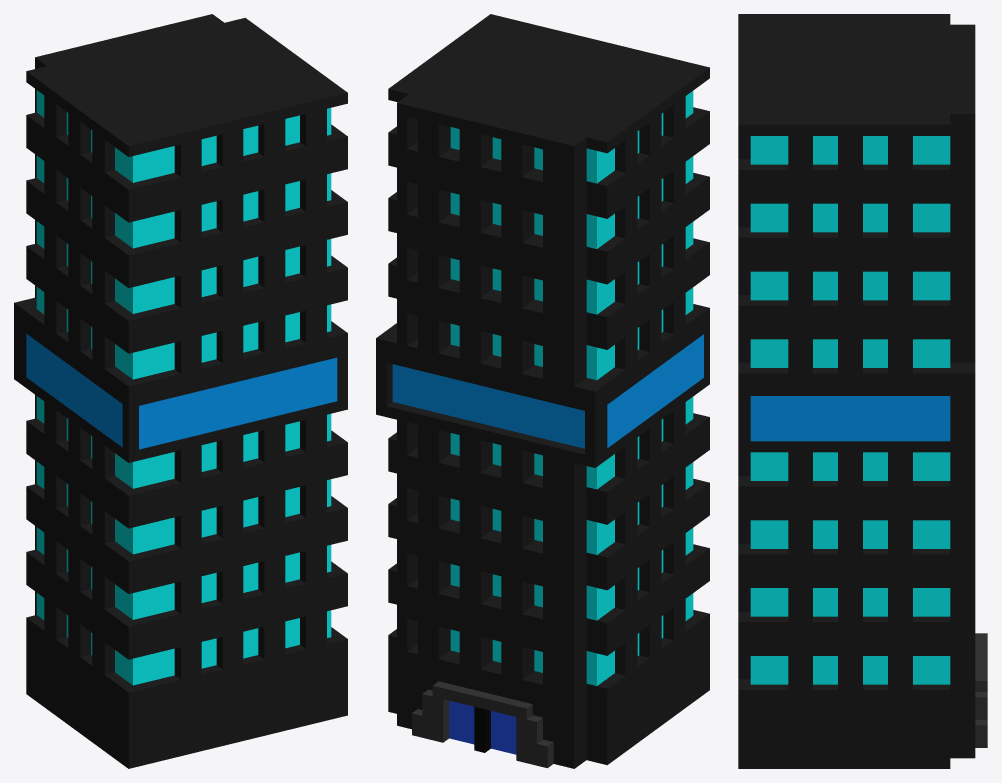
File: Buil.obj
3 views of the same model, side by side, from view 1: azimuth 30°, elevation 25°; view 2: azimuth 150°, elevation 25°; view 3: azimuth 270°, elevation 25° (orthographic). The views are drawn at different scales.
Parts seen in each view (by area): view 1: 立方体.13224; view 2: 立方体.13224; view 3: 立方体.13224.
Part boxes in pixels (<box>): 立方体.13224: <box>14,14,347,768</box>; 立方体.13224: <box>376,14,709,768</box>; 立方体.13224: <box>738,14,987,768</box>.
Size of the model in its own units: 21 by 57 by 20.
